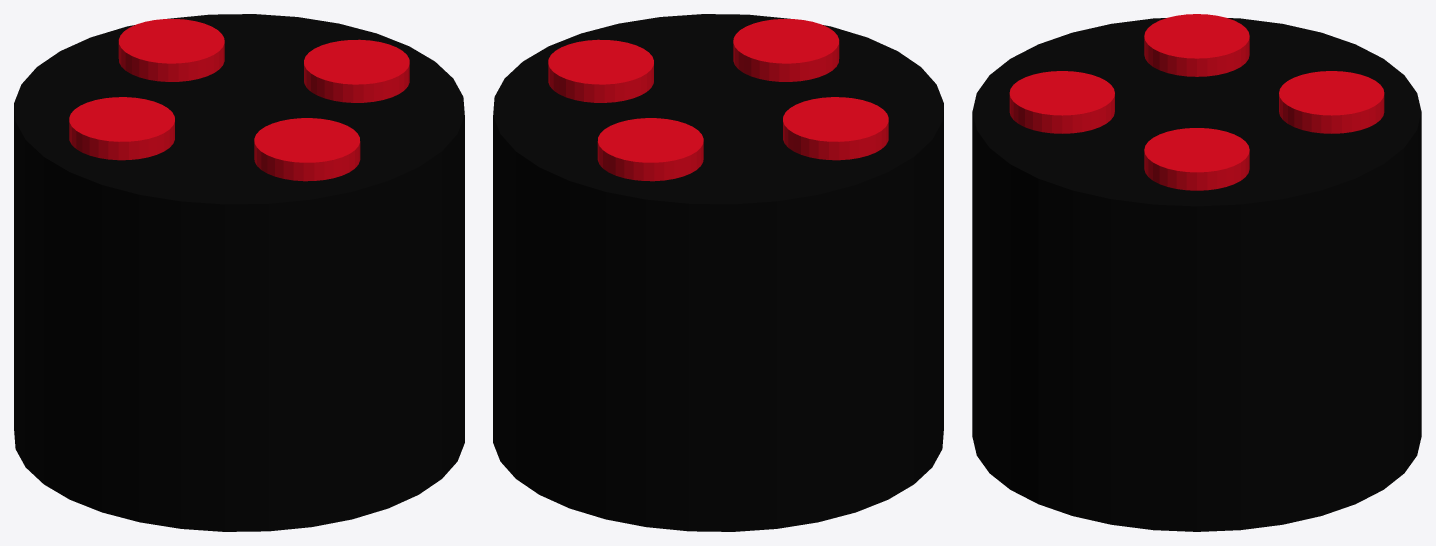
File: EnergyPanel.fbx
The picture shows the model from 3 angles, left to right: view 1: azimuth 30°, elevation 25°; view 2: azimuth 150°, elevation 25°; view 3: azimuth 270°, elevation 25°; orthographic projection.
Parts seen in each view (by area): view 1: Cylinder, Cylinder.001, Cylinder.003, Cylinder.004, Cylinder.002; view 2: Cylinder, Cylinder.001, Cylinder.003, Cylinder.004, Cylinder.002; view 3: Cylinder, Cylinder.002, Cylinder.001, Cylinder.003, Cylinder.004.
Boxes of the visible parts, left/top/right/bottom form: Cylinder: left=14, top=14, right=464, bottom=531; Cylinder.001: left=254, top=118, right=360, bottom=181; Cylinder.003: left=118, top=19, right=224, bottom=81; Cylinder.004: left=304, top=39, right=409, bottom=102; Cylinder.002: left=69, top=97, right=174, bottom=160; Cylinder: left=493, top=14, right=943, bottom=531; Cylinder.001: left=733, top=19, right=839, bottom=81; Cylinder.003: left=597, top=118, right=703, bottom=181; Cylinder.004: left=548, top=39, right=653, bottom=102; Cylinder.002: left=783, top=97, right=888, bottom=160; Cylinder: left=972, top=18, right=1421, bottom=531; Cylinder.002: left=1144, top=14, right=1249, bottom=76; Cylinder.001: left=1009, top=71, right=1114, bottom=133; Cylinder.003: left=1279, top=71, right=1384, bottom=133; Cylinder.004: left=1144, top=128, right=1249, bottom=190.
Bounding box in the file's own units: 100 × 84.5 × 100.
